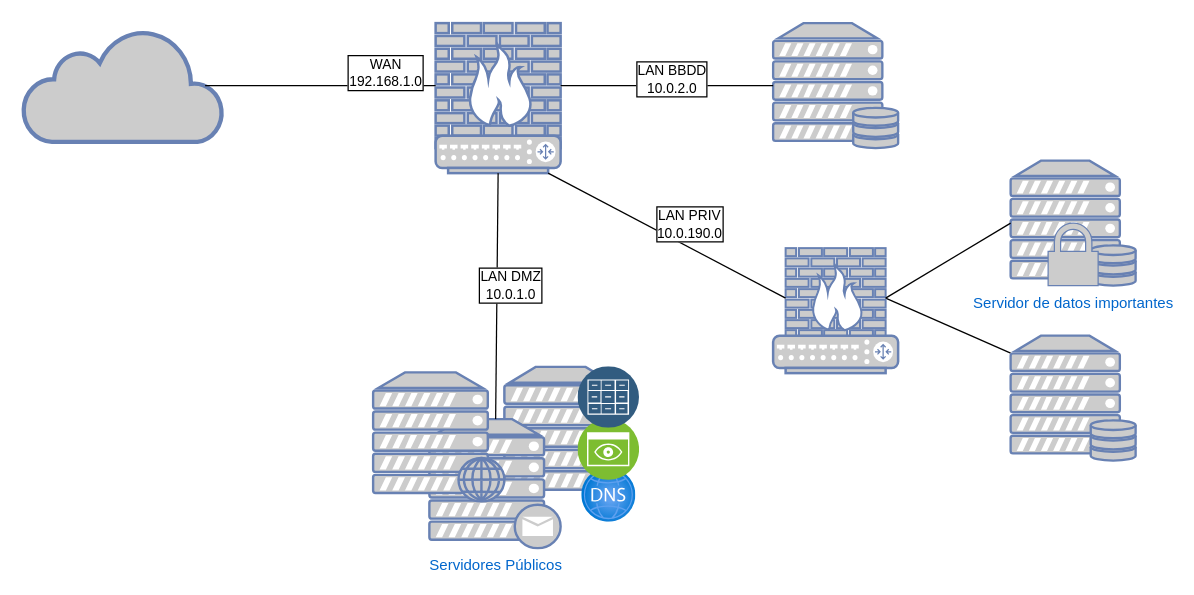
The diagram is 1194 pixels wide and 595 high, and some of its shapes have lost their labels. The shapes that lost their labels are listed below. From the top down, each one's centre as x and y in pixels, then its label:
At point (835, 85): "Servidor General".
At point (1072, 397): "Servidor Backups".
